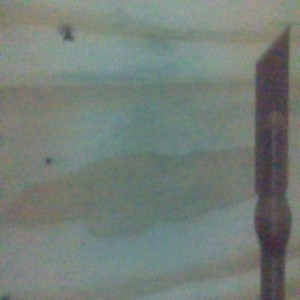cutter: (252, 23, 294, 300)
